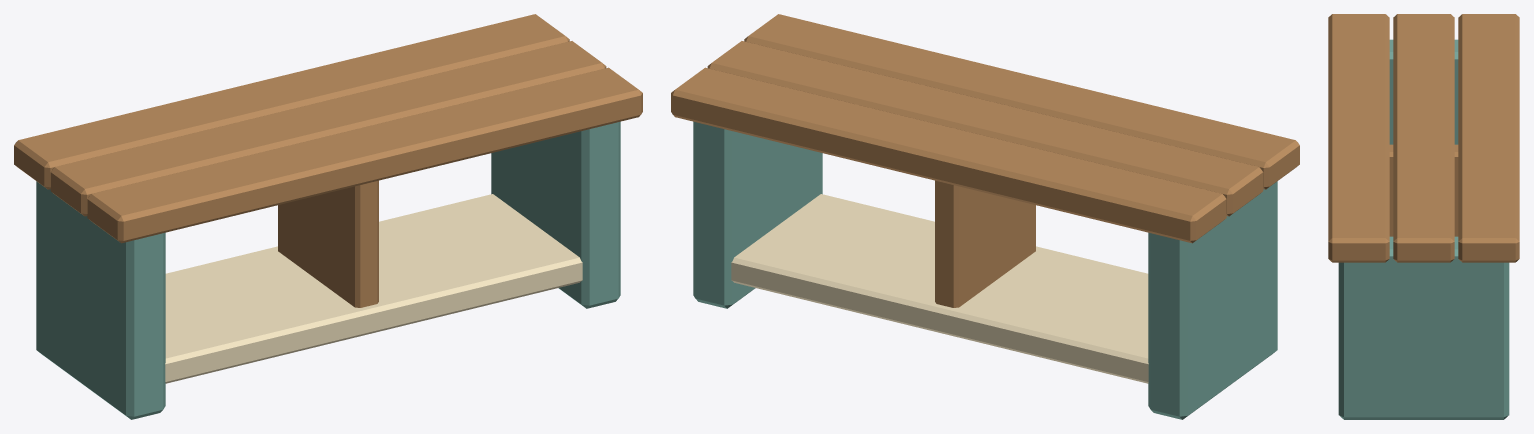
The picture shows the model from 3 angles, left to right: view 1: azimuth 30°, elevation 25°; view 2: azimuth 150°, elevation 25°; view 3: azimuth 270°, elevation 25°; orthographic projection. The views are drawn at different scales.
Visible parts, largest first — view 1: entryway-storage-bench-01; view 2: entryway-storage-bench-01; view 3: entryway-storage-bench-01.
Part boxes in pixels (x1,y1,x2,y2): entryway-storage-bench-01: [14, 14, 642, 419]; entryway-storage-bench-01: [671, 14, 1299, 419]; entryway-storage-bench-01: [1328, 14, 1519, 419].
Size of the model in its own units: 1.2 by 0.465 by 0.427.
